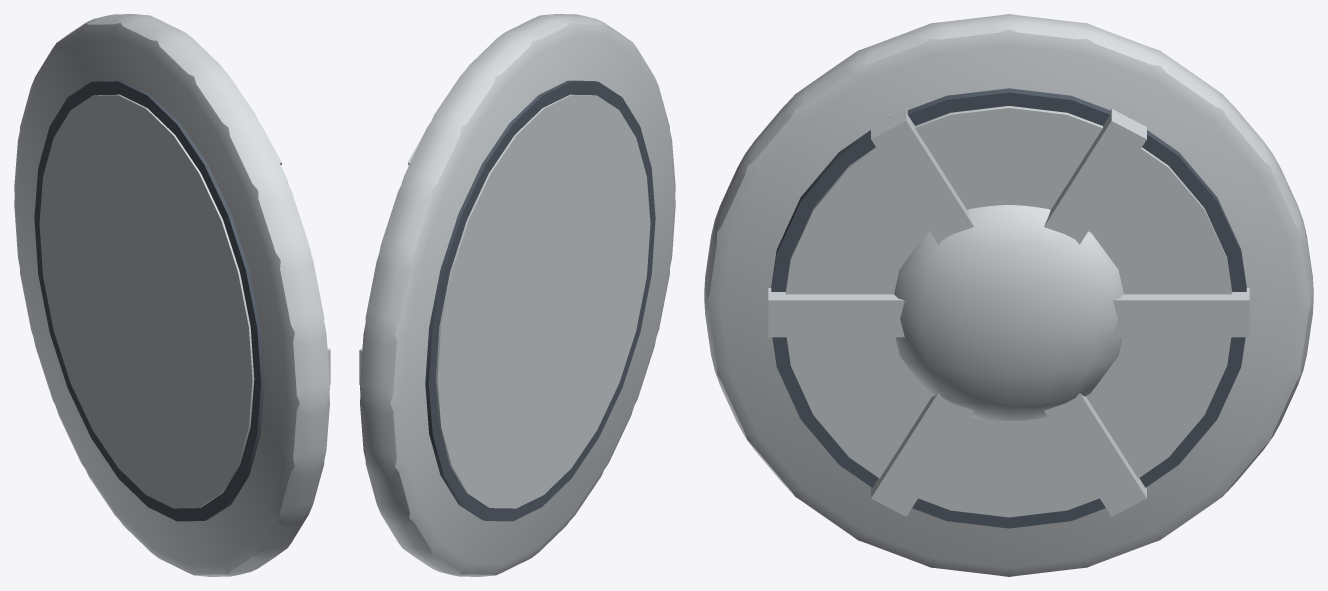
The model's file is feel_hubcap.glb.
The picture shows the model from 3 angles, left to right: view 1: azimuth 30°, elevation 25°; view 2: azimuth 150°, elevation 25°; view 3: azimuth 270°, elevation 25°; orthographic projection. The views are drawn at different scales.
Parts seen in each view (by area): view 1: FeelHubcap_body; view 2: FeelHubcap_body; view 3: FeelHubcap_body.
Boxes of the visible parts, left/top/right/bottom form: FeelHubcap_body: left=14, top=14, right=330, bottom=576; FeelHubcap_body: left=359, top=14, right=675, bottom=576; FeelHubcap_body: left=704, top=14, right=1313, bottom=576.
Bounding box in the file's own units: 0.082 × 0.4182 × 0.4182.
